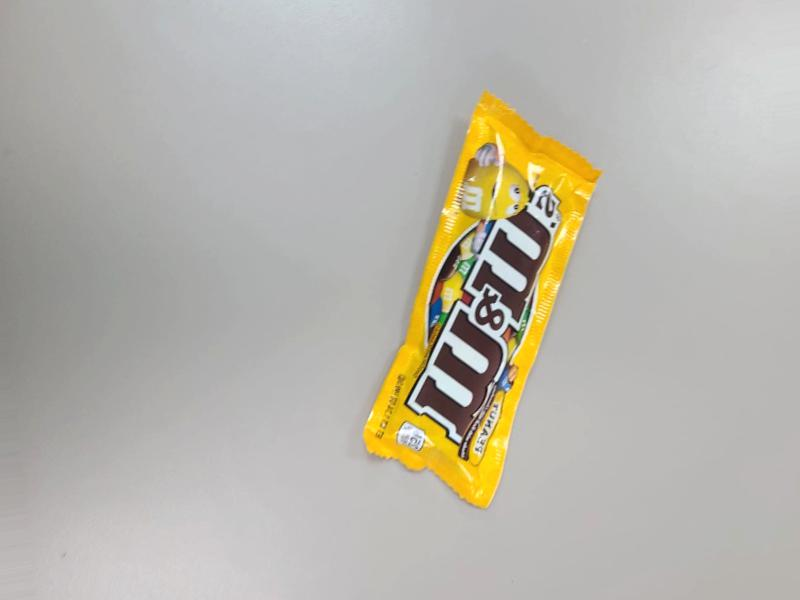m&m: (387, 70, 599, 522)
